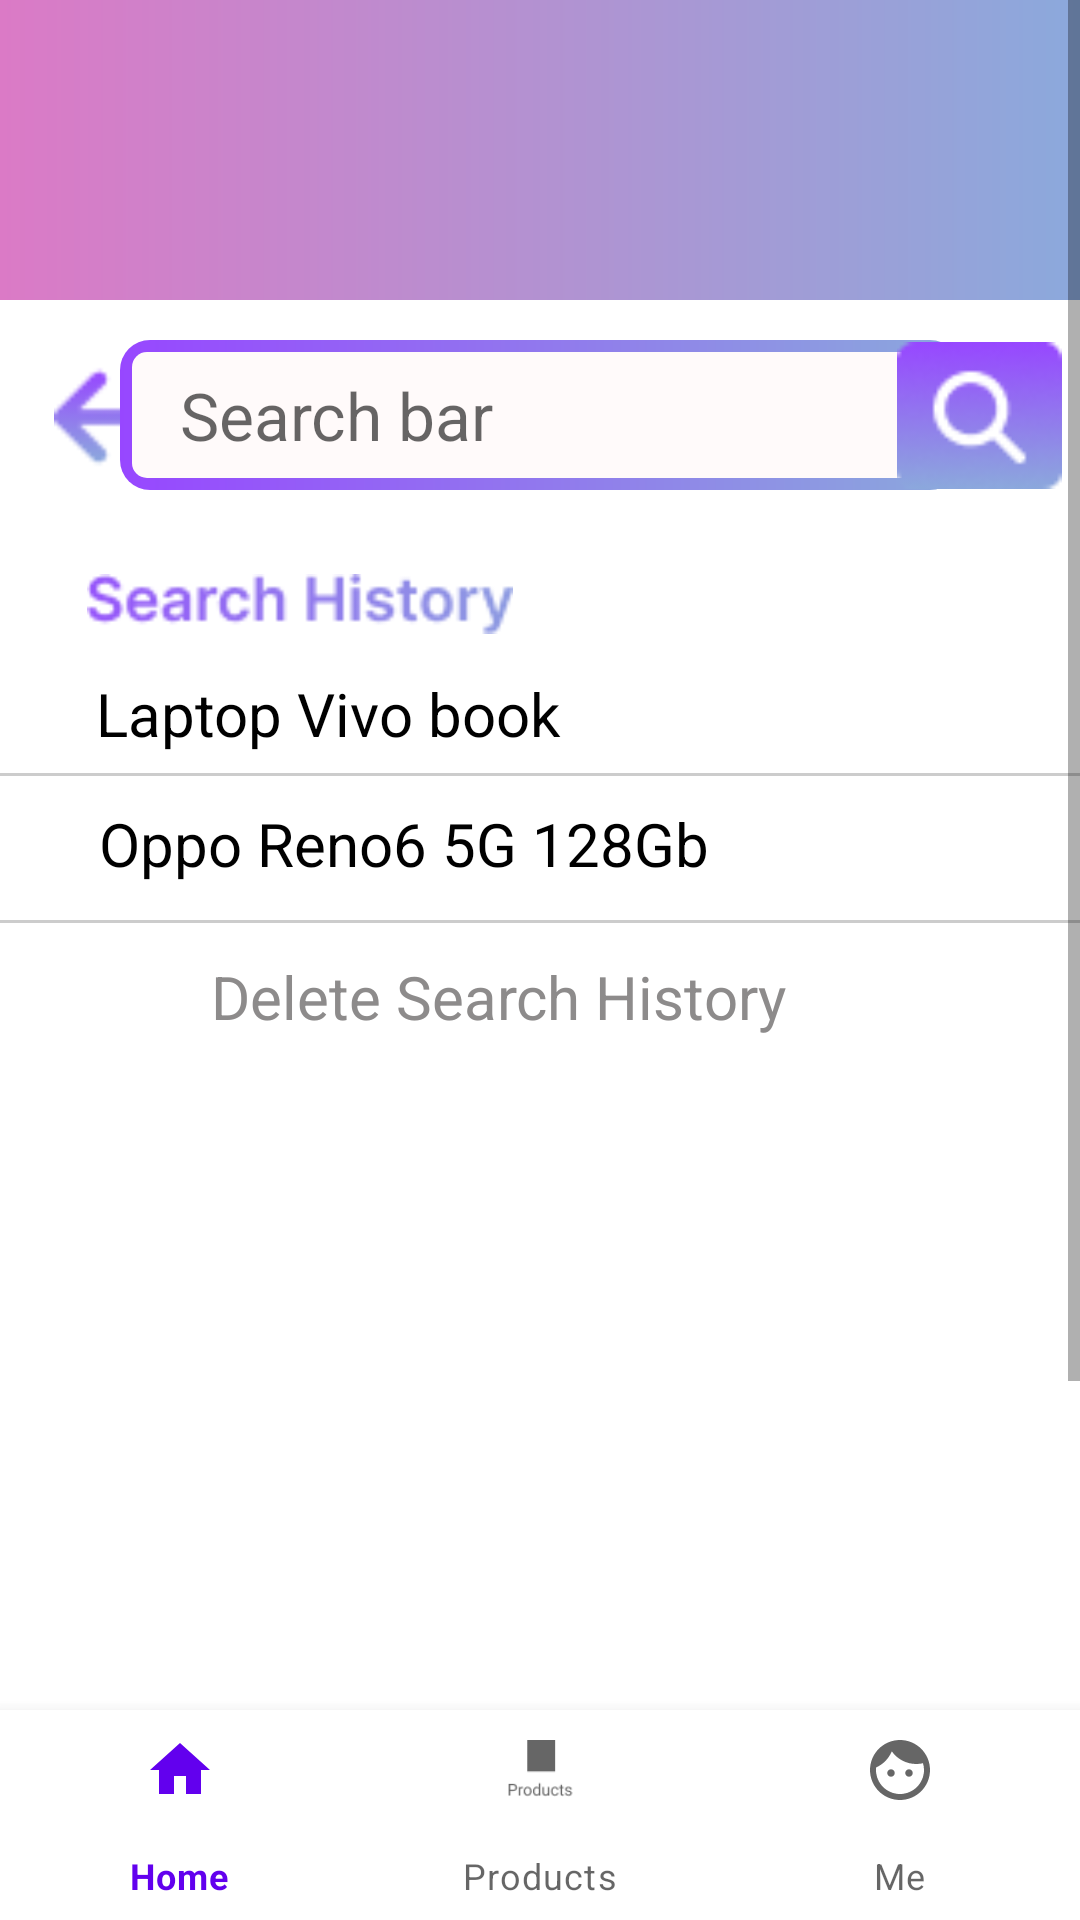

Icon click points for this 1080px×1920px phone screenshot, format [x,y]:
arrow: [98,417]
